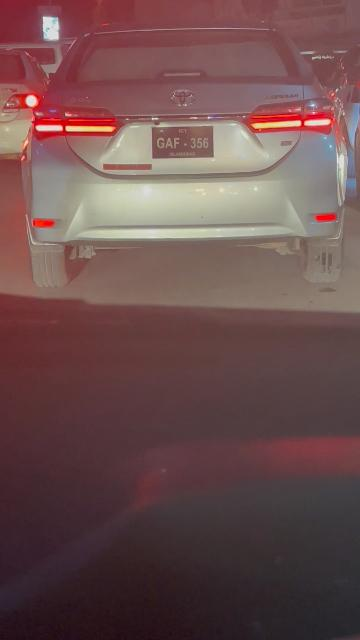plate: (150, 126, 214, 158)
